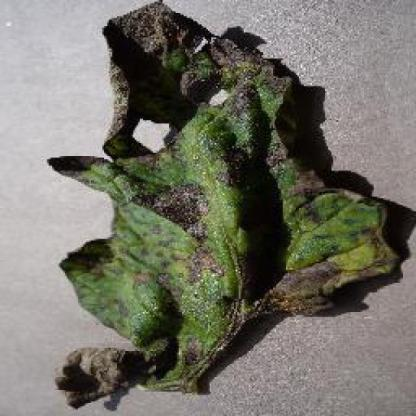Tomato_Blight: (46, 1, 400, 407)
